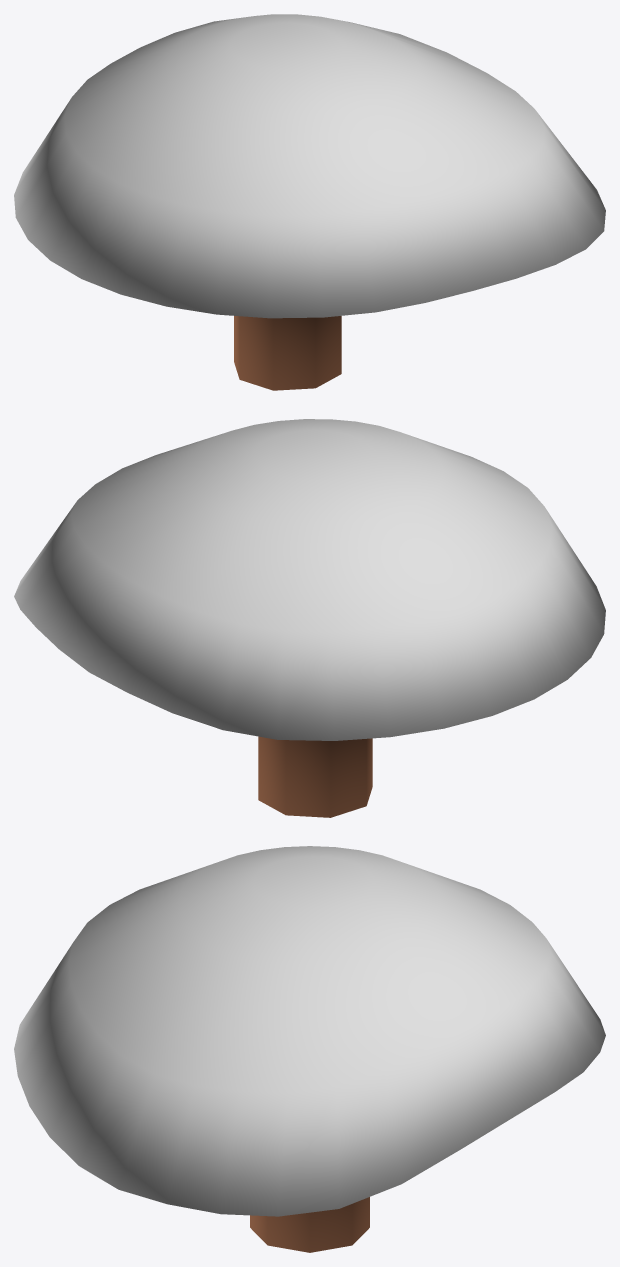
File: mushRoomJumpad2.glb
3 views of the same model, one above another, from view 1: azimuth 30°, elevation 25°; view 2: azimuth 150°, elevation 25°; view 3: azimuth 270°, elevation 25° (orthographic). The views are drawn at different scales.
Visible parts, largest first — view 1: Head_3, Columns_3; view 2: Head_3, Columns_3; view 3: Head_3, Columns_3.
Part boxes in pixels (x1,y1,x2,y2): Head_3: (14, 14, 605, 318); Columns_3: (234, 316, 341, 390); Head_3: (14, 419, 605, 740); Columns_3: (258, 736, 372, 817); Head_3: (14, 846, 605, 1216); Columns_3: (250, 1197, 369, 1252).
Size of the model in its own units: 4.03 by 2.42 by 3.76.
